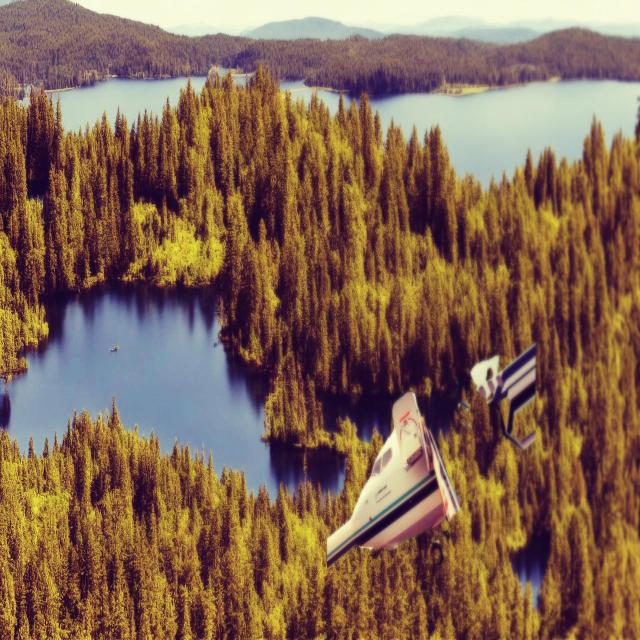airplane: (325, 344, 537, 569)
